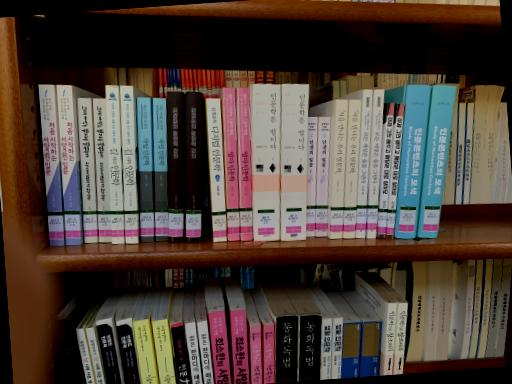book-spine: (417, 85, 457, 239), (394, 84, 432, 239), (280, 84, 309, 242), (251, 84, 280, 241), (37, 84, 65, 246), (56, 84, 81, 245), (76, 97, 98, 244), (206, 98, 227, 242), (105, 85, 124, 244), (120, 85, 139, 244), (222, 87, 240, 241), (92, 98, 111, 243), (366, 89, 384, 238), (136, 98, 154, 242), (385, 104, 404, 239), (185, 92, 202, 242), (355, 89, 372, 239), (330, 100, 348, 239), (343, 99, 361, 238), (377, 102, 395, 238), (167, 92, 183, 243), (237, 87, 252, 240), (153, 98, 168, 241), (315, 117, 331, 237), (306, 117, 317, 237)
